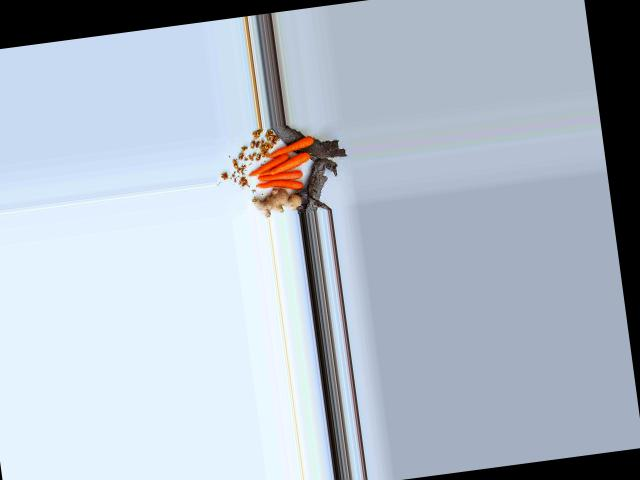carrot: (257, 174, 306, 200)
